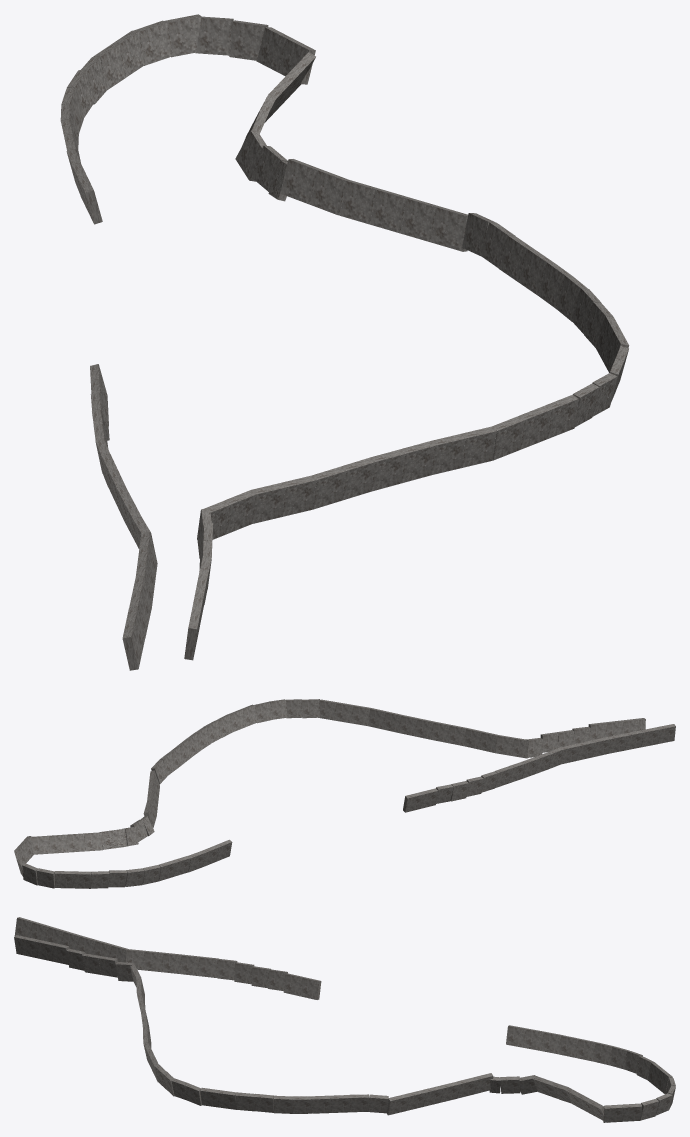
File: 下壁四角.fbx
The picture shows the model from 3 angles, top to bottom: view 1: azimuth 30°, elevation 25°; view 2: azimuth 150°, elevation 25°; view 3: azimuth 270°, elevation 25°; orthographic projection. The views are drawn at different scales.
Visible parts, largest first — view 1: 床□_3, 床□_20, 床□_5, 床□_4, 床□_6, 床□_7, 床□_19, 床□_8, 床□_21, 床□_22, 床□_1_18, 床□_1_12 (+9 smaller); view 2: 床□_12, 床□_1_22, 床□_15, 床□_1_10, 床□_1_20, 床□_14, 床□_13, 床□_1_19, 床□_1_13, 床□_1_14, 床□_16, 床□_1_21 (+21 smaller); view 3: 床□_34, 床□_43, 床□_33, 床□_40, 床□_42, 床□_32, 床□_41, 床□_29, 床□_30, 床□_31, 床□_39, 床□_3 (+22 smaller).
Part boxes in pixels (x1,y1,x2,y2): 床□_3: (429,206,467,251); 床□_20: (195,16,233,55); 床□_5: (369,189,410,233); 床□_4: (400,198,440,242); 床□_6: (339,180,379,224); 床□_7: (309,169,349,215); 床□_19: (229,20,268,60); 床□_8: (280,159,321,204); 床□_21: (165,14,201,57); 床□_22: (134,20,172,65); 床□_1_18: (461,426,496,467); 床□_1_12: (282,475,316,516); 床□_12: (100,829,127,849); 床□_1_22: (301,699,319,718); 床□_15: (49,834,67,853); 床□_1_10: (495,735,515,755); 床□_1_20: (335,702,354,723); 床□_14: (67,833,85,852); 床□_13: (84,832,102,851); 床□_1_19: (352,705,371,726); 床□_1_13: (448,725,467,746); 床□_1_14: (432,722,450,742); 床□_16: (31,835,50,854); 床□_1_21: (318,699,337,720); 床□_34: (300,977,321,999); 床□_43: (144,951,163,972); 床□_33: (506,1025,526,1047); 床□_40: (199,956,218,977); 床□_42: (162,952,182,973); 床□_32: (524,1028,545,1050); 床□_41: (181,954,200,975); 床□_29: (576,1039,597,1061); 床□_30: (559,1035,579,1057); 床□_31: (541,1032,562,1054); 床□_39: (217,959,237,980); 床□_3: (386,1093,408,1115).
Size of the model in its own units: 477 by 27.67 by 693.
Materials: 1 (1 with a texture image).
